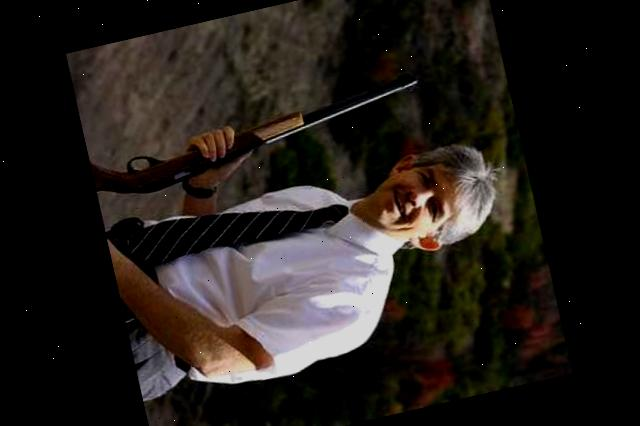rifle: (81, 50, 441, 214)
